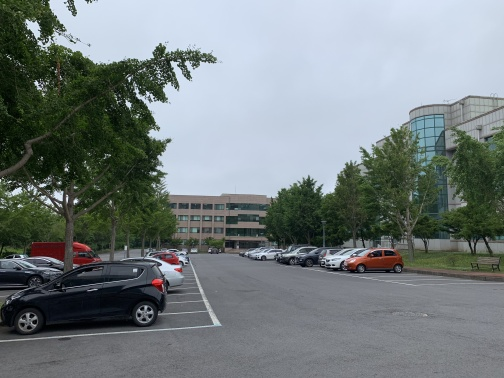Joint Experimental Labs: (163, 191, 275, 252)
Second Library: (375, 96, 504, 253), (404, 97, 504, 158)
